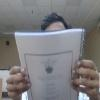notebook: (13, 27, 86, 99)
